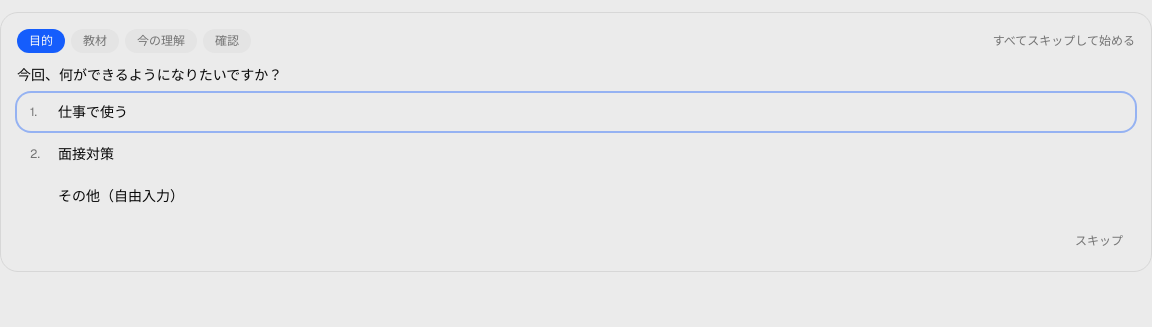
Test case: IntakeCardView topic question › labels the free input of every question
Click the radio button labelled "その他（自由入力）": {"x": 121, "y": 196} left=17, top=177, right=1135, bottom=215
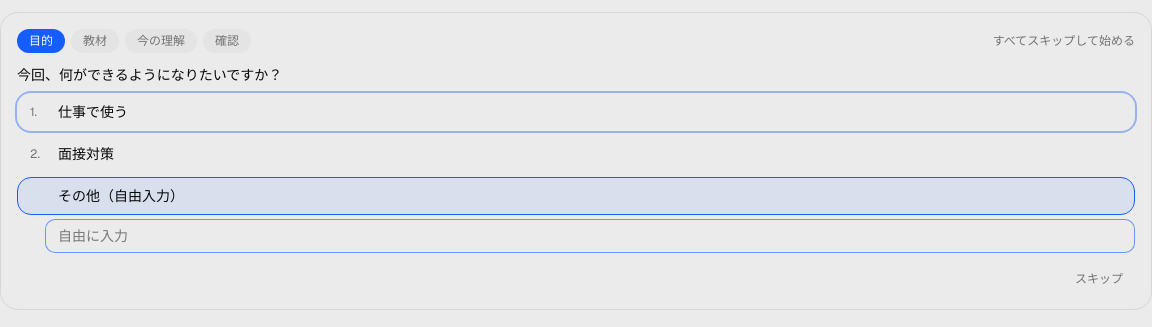
Check: the field named "目的" is shown, box left=45, top=219, right=1135, bottom=253
